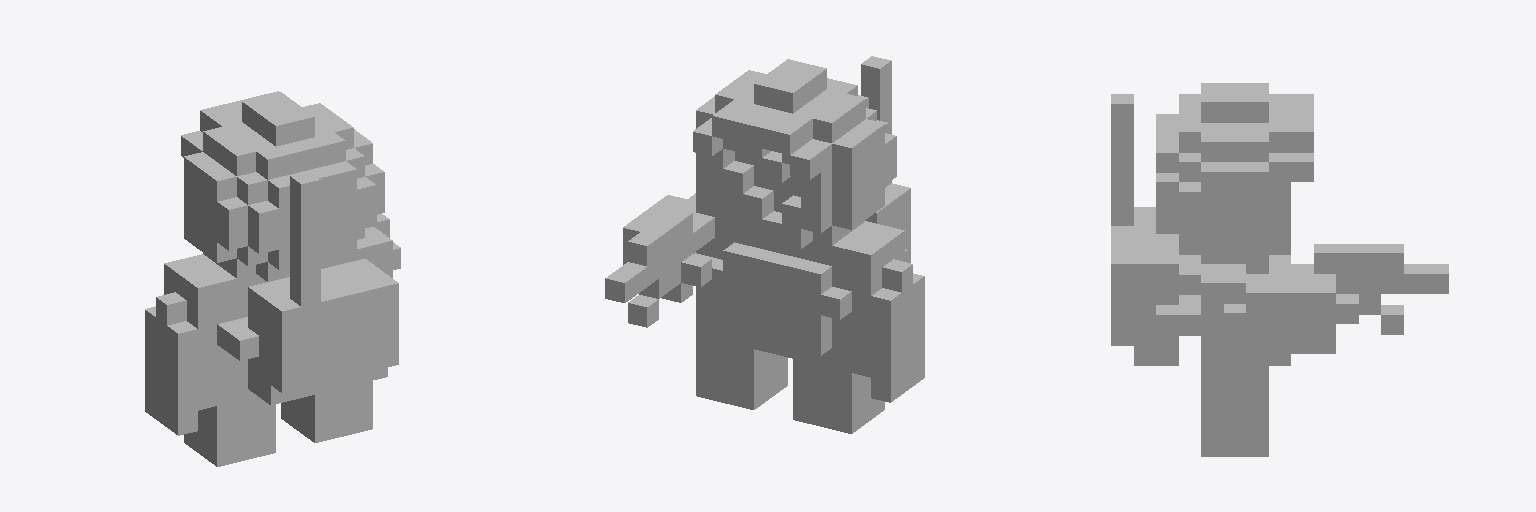
The model's file is enemyRangedGreen.obj.
3 views of the same model, side by side, from view 1: azimuth 30°, elevation 25°; view 2: azimuth 150°, elevation 25°; view 3: azimuth 270°, elevation 25° (orthographic).
Visible parts, largest first — view 1: object 1; view 2: object 1; view 3: object 1.
Part boxes in pixels (bbox=[...]): object 1: bbox=[145, 91, 400, 466]; object 1: bbox=[605, 56, 924, 433]; object 1: bbox=[1111, 83, 1448, 456].
Size of the model in its own units: 1.2 by 1.6 by 1.5.